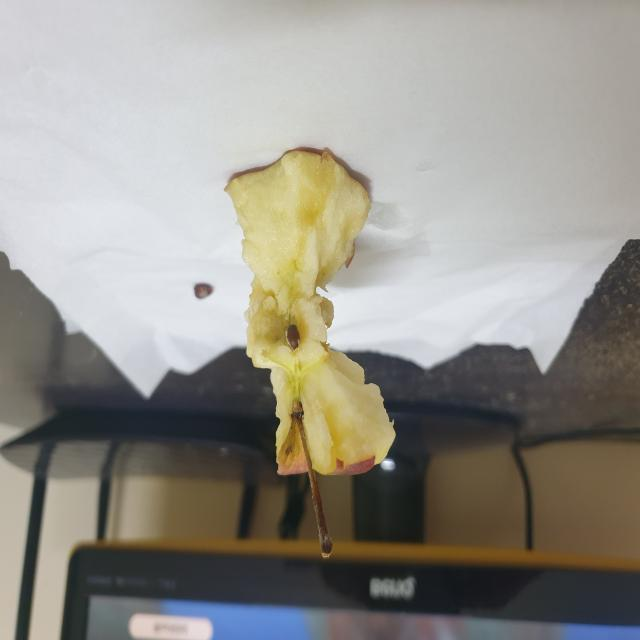apple: (220, 146, 408, 572)
